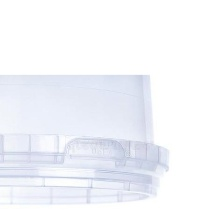plastic_box: (0, 74, 176, 215)
